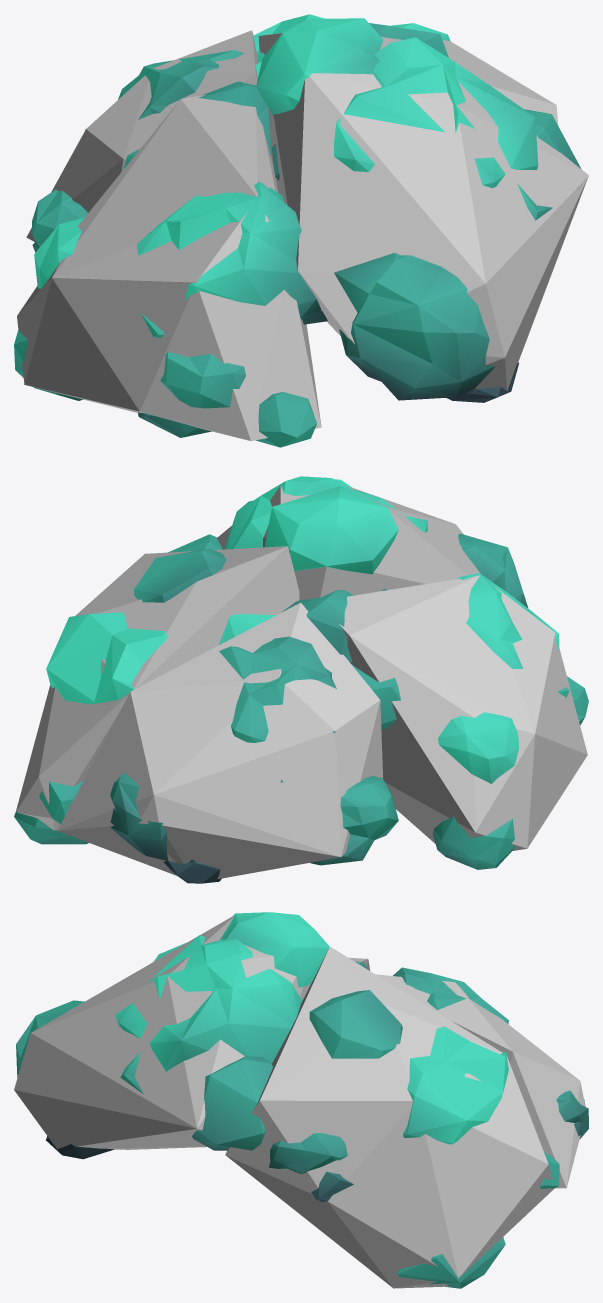
The model's file is SM_Env_Tree_Glowing_Canopy_01.fbx.
3 renders of one model, top to bottom at view 1: azimuth 30°, elevation 25°; view 2: azimuth 150°, elevation 25°; view 3: azimuth 270°, elevation 25°, orthographic. The views are drawn at different scales.
Parts seen in each view (by area): view 1: SM_Env_Tree_Glowing_Canopy_01_ConvexHulls, SM_Env_Tree_Glowing_Canopy_01; view 2: SM_Env_Tree_Glowing_Canopy_01_ConvexHulls, SM_Env_Tree_Glowing_Canopy_01; view 3: SM_Env_Tree_Glowing_Canopy_01_ConvexHulls, SM_Env_Tree_Glowing_Canopy_01.
Boxes of the visible parts, x1,y1,x2,y2 form: SM_Env_Tree_Glowing_Canopy_01_ConvexHulls: [17, 30, 588, 441]; SM_Env_Tree_Glowing_Canopy_01: [14, 14, 581, 447]; SM_Env_Tree_Glowing_Canopy_01_ConvexHulls: [16, 485, 587, 879]; SM_Env_Tree_Glowing_Canopy_01: [14, 476, 588, 883]; SM_Env_Tree_Glowing_Canopy_01_ConvexHulls: [14, 916, 585, 1288]; SM_Env_Tree_Glowing_Canopy_01: [16, 912, 588, 1288].
Bounding box in the file's own units: 900 × 1098 × 611.
Materials: 2 (1 with a texture image).
